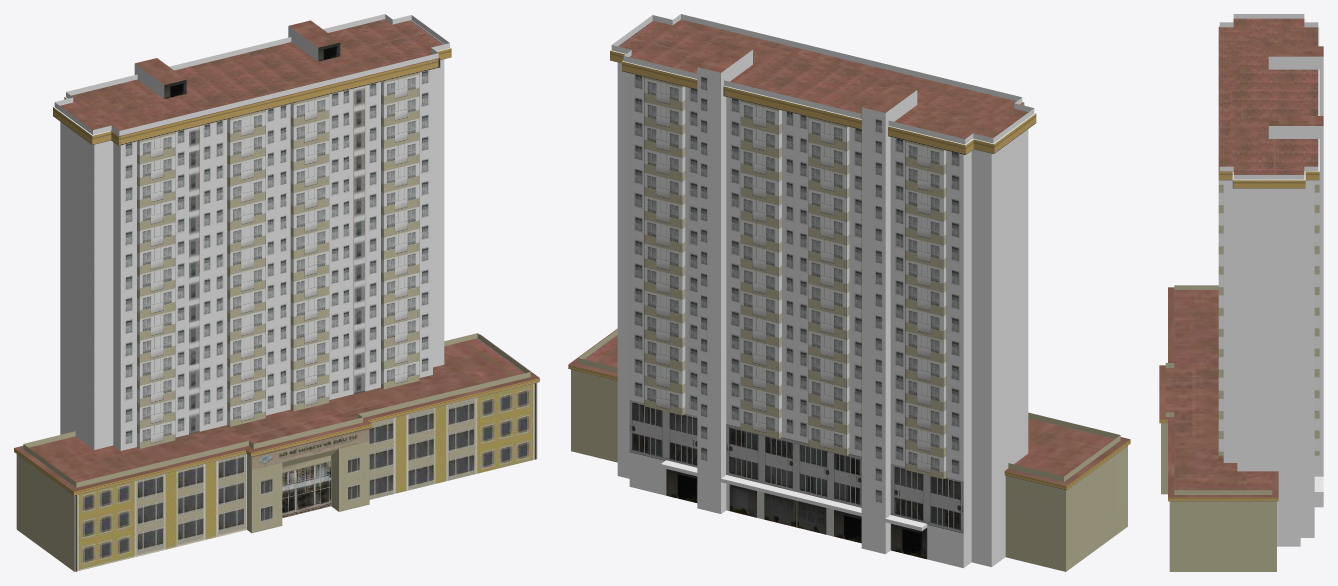
3 views of the same model, side by side, from view 1: azimuth 30°, elevation 25°; view 2: azimuth 150°, elevation 25°; view 3: azimuth 270°, elevation 25° (orthographic). The views are drawn at different scales.
Visible parts, largest first — view 1: HN496___B10A_Nguyen_Chanh; view 2: HN496___B10A_Nguyen_Chanh; view 3: HN496___B10A_Nguyen_Chanh.
Boxes of the visible parts, left/top/right/bottom form: HN496___B10A_Nguyen_Chanh: left=14, top=14, right=539, bottom=571; HN496___B10A_Nguyen_Chanh: left=568, top=14, right=1130, bottom=571; HN496___B10A_Nguyen_Chanh: left=1159, top=14, right=1323, bottom=571.
Size of the model in its own units: 86.6 by 73.27 by 28.6.
1 material, 1 textured.
